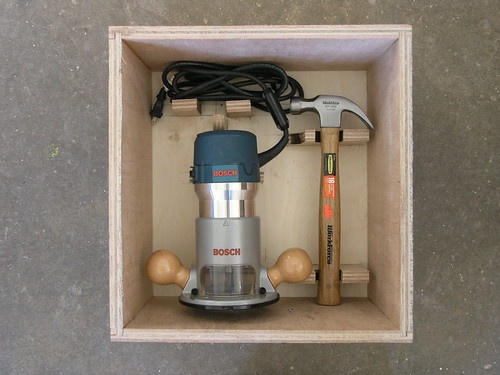hammer: (289, 94, 376, 307)
